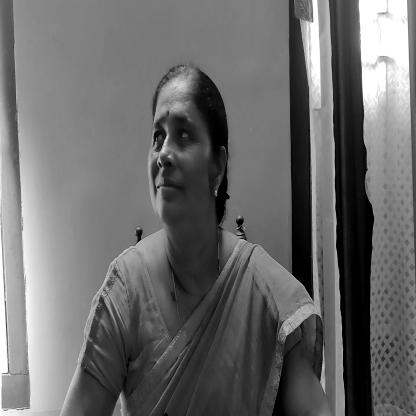Distracted: (140, 70, 216, 231)
